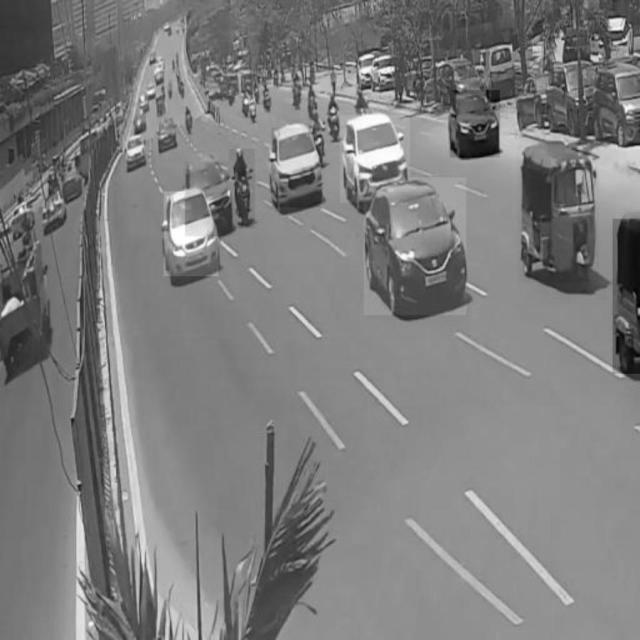vehicle: (364, 179, 466, 316), (518, 141, 599, 283), (340, 115, 410, 203), (164, 192, 219, 276), (613, 219, 640, 373), (272, 128, 322, 208), (185, 161, 236, 235), (450, 89, 501, 157), (229, 149, 255, 229)
